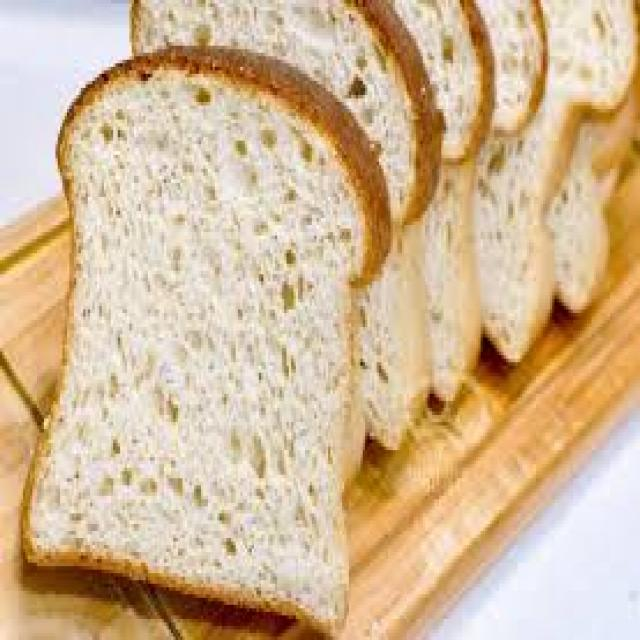organic waste: (19, 42, 388, 630), (127, 0, 432, 447), (386, 0, 492, 401), (543, 0, 633, 327), (471, 0, 543, 352), (548, 102, 638, 316)
